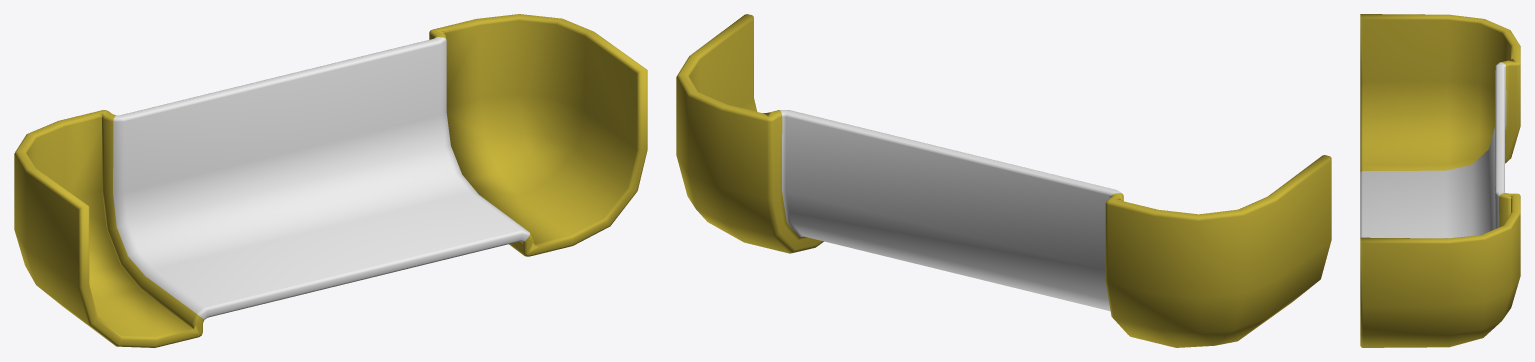
Rendered from Wall_lamp.fbx.
3 renders of one model, left to right at view 1: azimuth 30°, elevation 25°; view 2: azimuth 150°, elevation 25°; view 3: azimuth 270°, elevation 25°, orthographic. The views are drawn at different scales.
Parts seen in each view (by area): view 1: Cylinder.003; view 2: Cylinder.003; view 3: Cylinder.003.
Boxes of the visible parts, box(x1,y1,x2,y2) form: Cylinder.003: box(14, 14, 647, 347); Cylinder.003: box(676, 14, 1331, 347); Cylinder.003: box(1360, 14, 1520, 347).
Size of the model in its own units: 162 by 43.42 by 48.33.
